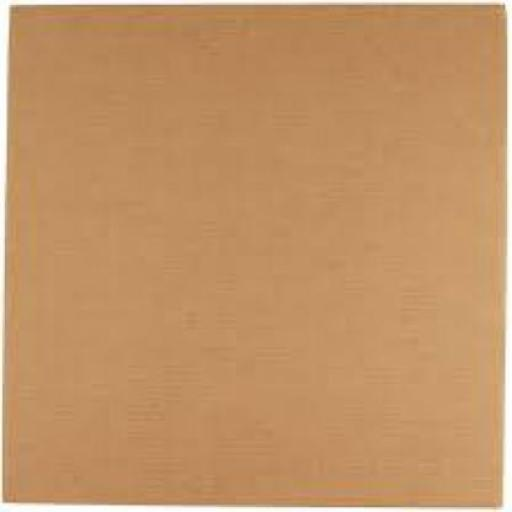cardboard: (0, 0, 503, 508)
